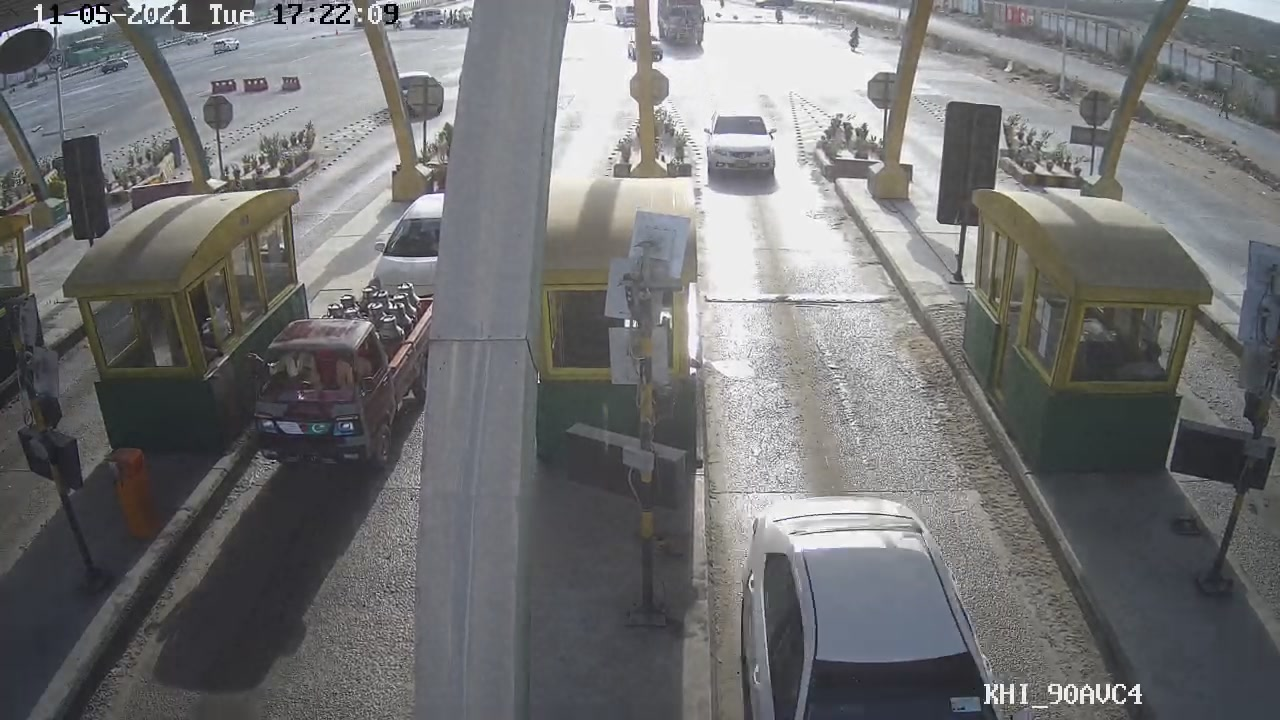F1: (694, 84, 790, 183)
